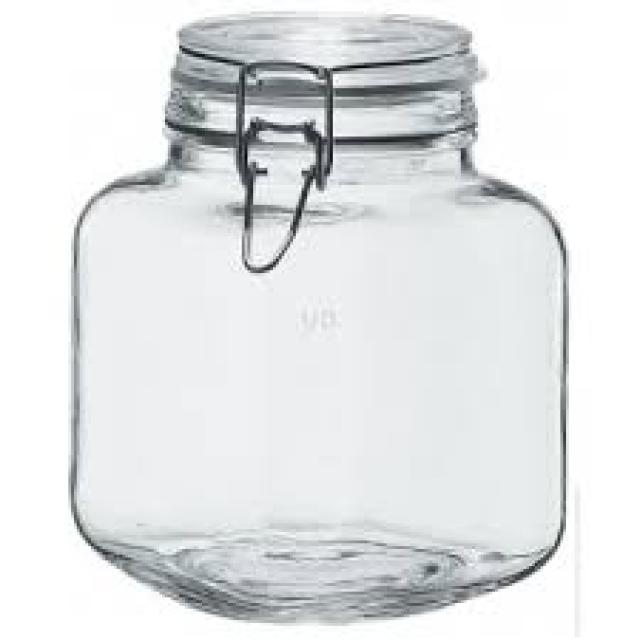glass: (71, 14, 563, 617)
